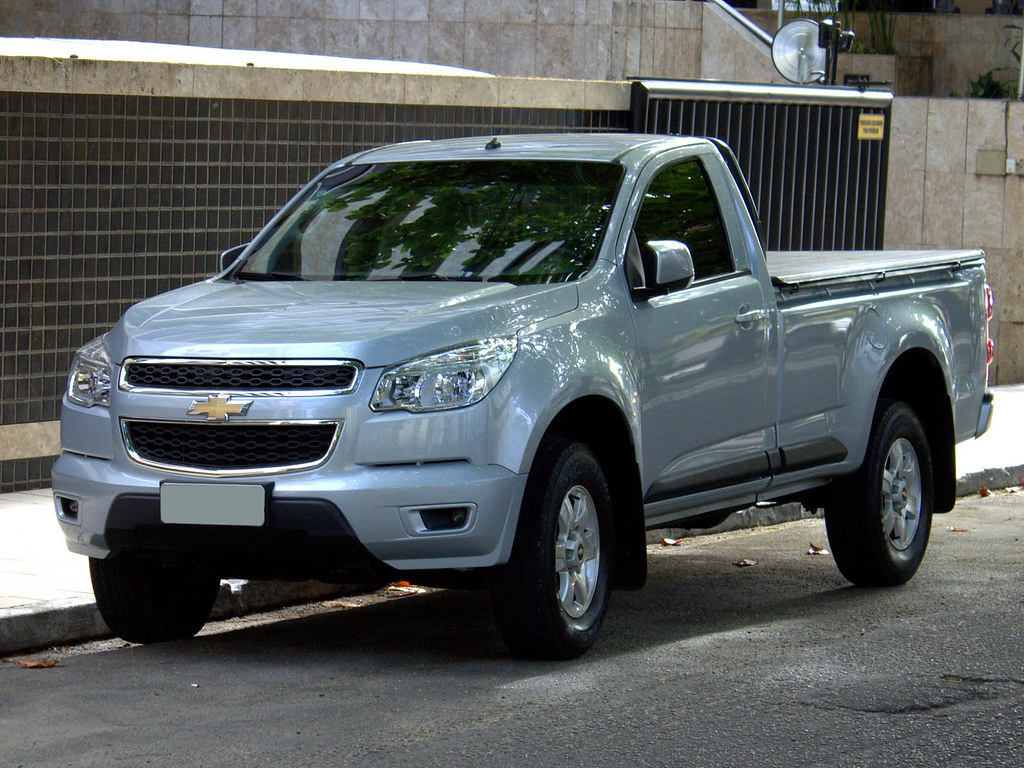pickup: (56, 130, 997, 659)
